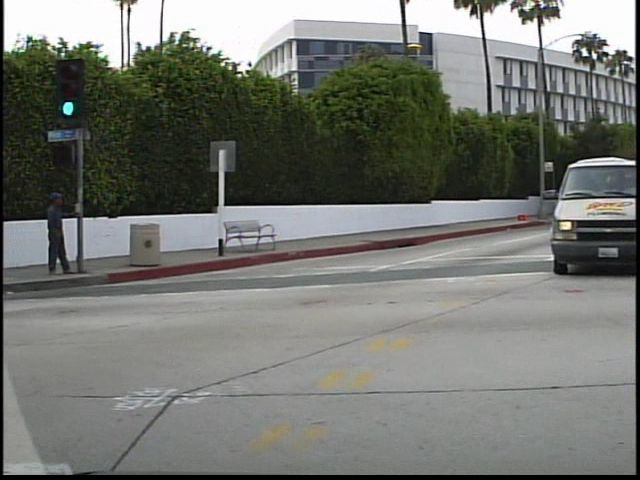person: (39, 192, 72, 279)
